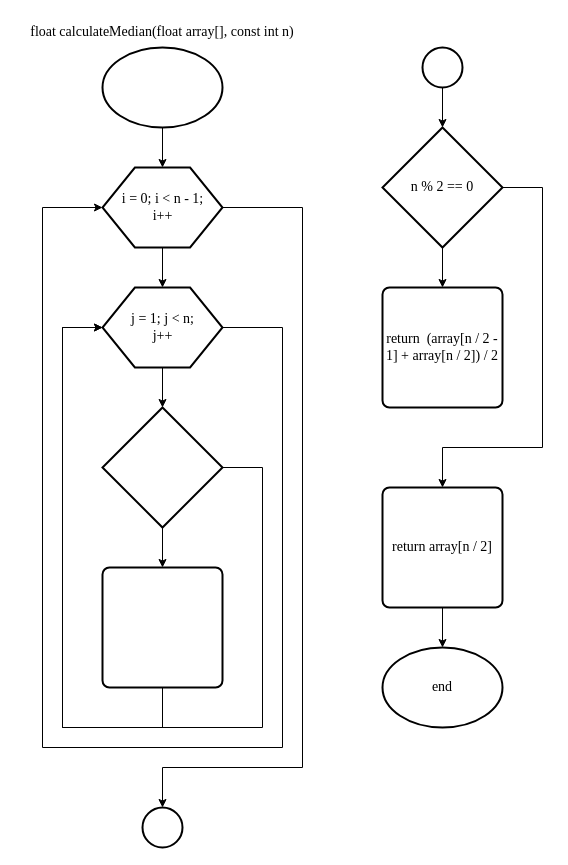
The diagram is 568 pixels wide and 865 high, and some of its shapes have lost their labels. The shapes that lost their labels are listed below. From the top down, each one's box as (x1, y1, x2, y2) in pixels, then its label:
(101, 46, 223, 128): start
(101, 406, 223, 528): array[i] > array[j]
(101, 566, 223, 688): temp = array[i] array[i] = array[j] array[j] = temp
